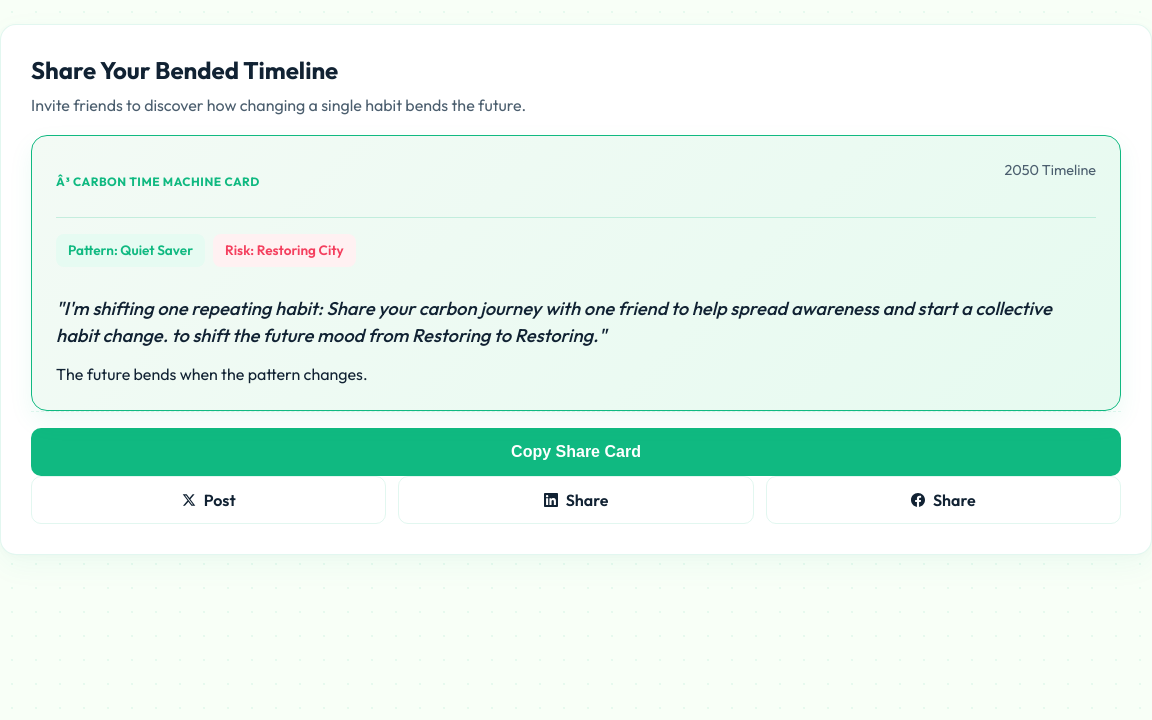
Scenario: ShareCard › copies share text with the clipboard API
Click the button "Copy Share Card". click: (576, 452)
box: [31,428,1121,476]
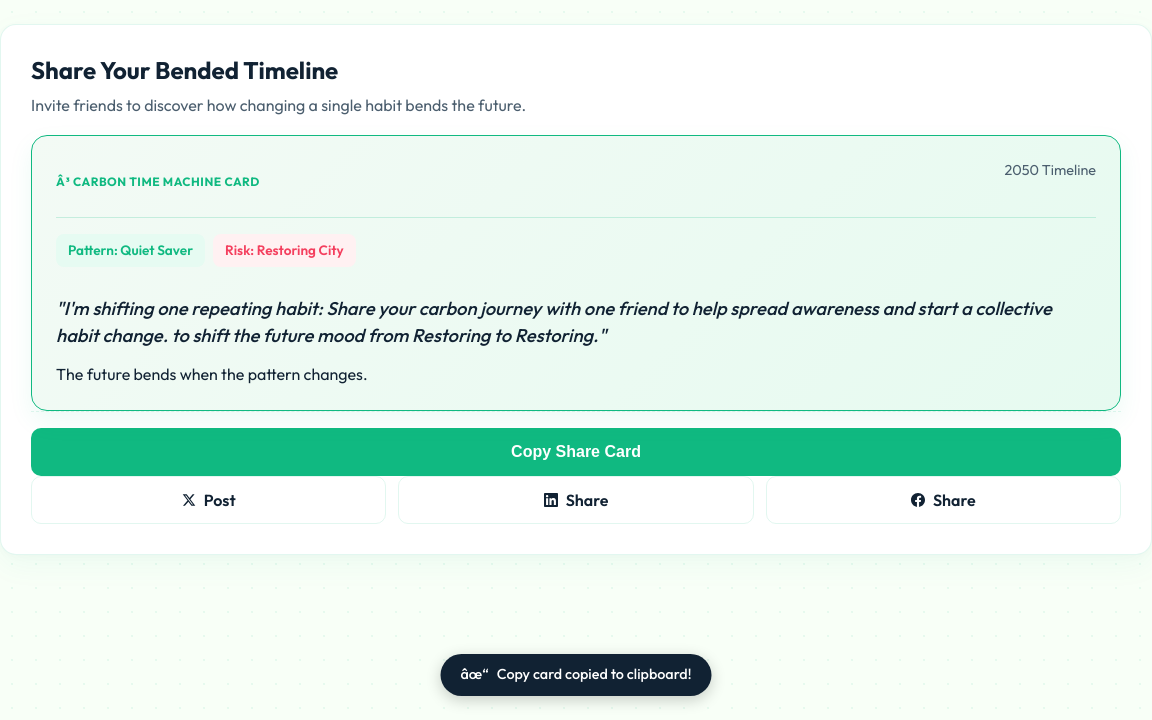
Check: the message shows "copied to clipboard", box [497,665,692,683]
